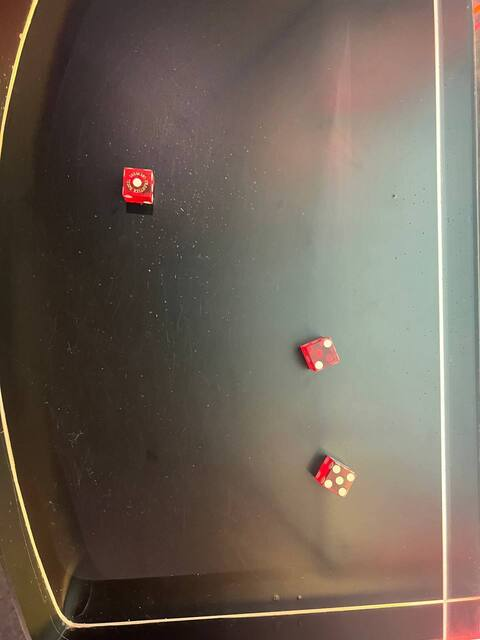five: (318, 460, 359, 499)
one: (120, 167, 154, 200)
two: (301, 335, 342, 373)
